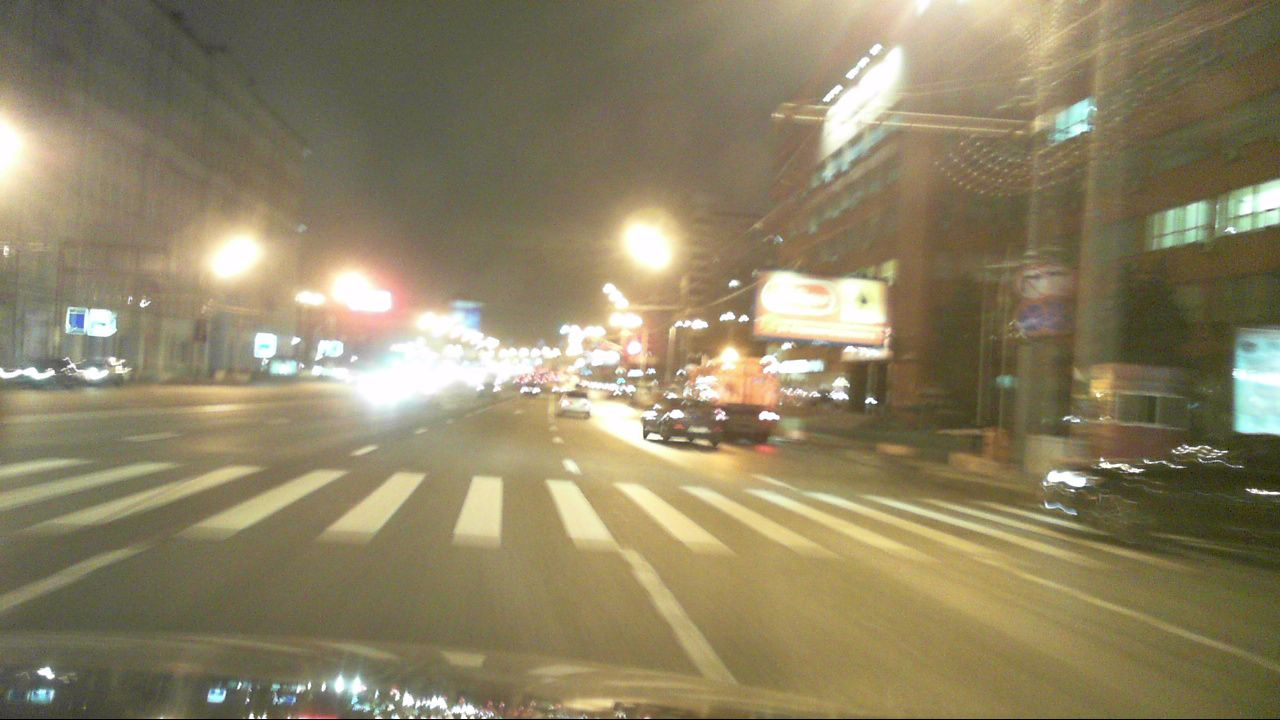No Parking: (1016, 303, 1052, 335)
